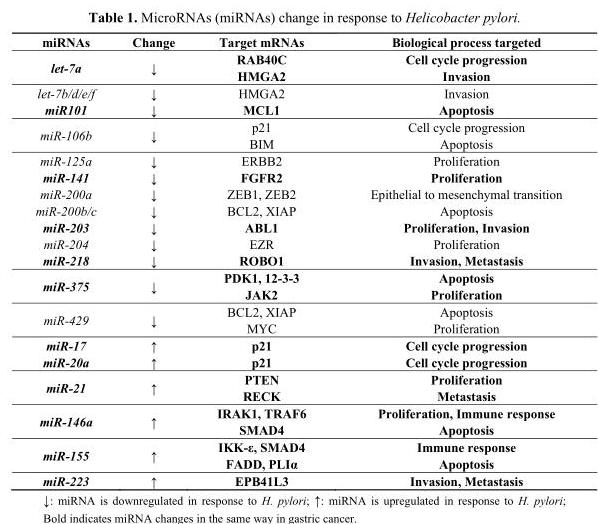table: (34, 34, 561, 487)
table column: (337, 34, 561, 487), (195, 34, 337, 487), (113, 34, 195, 487), (34, 34, 113, 487)
table column header: (34, 34, 561, 50)
table row: (34, 50, 561, 67), (34, 67, 561, 84), (34, 84, 561, 101), (34, 101, 561, 118), (34, 134, 561, 151), (34, 151, 561, 168), (34, 168, 561, 185), (34, 185, 561, 202), (34, 218, 561, 235), (34, 251, 561, 268), (34, 268, 561, 285), (34, 285, 561, 302), (34, 302, 561, 319), (34, 319, 561, 336), (34, 336, 561, 353), (34, 353, 561, 370), (34, 370, 561, 387), (34, 387, 561, 404), (34, 404, 561, 421), (34, 421, 561, 438), (34, 454, 561, 471), (34, 34, 561, 50), (34, 118, 561, 134), (34, 202, 561, 218), (34, 235, 561, 251), (34, 438, 561, 454), (34, 471, 561, 487)
table spanning cell: (113, 50, 195, 84), (113, 268, 195, 302), (113, 302, 195, 336), (113, 370, 195, 404), (113, 404, 195, 438), (113, 118, 195, 151), (113, 438, 195, 471), (34, 50, 113, 84), (34, 268, 113, 302), (34, 302, 113, 336), (34, 370, 113, 404), (34, 404, 113, 438), (34, 118, 113, 151), (34, 438, 113, 471)
